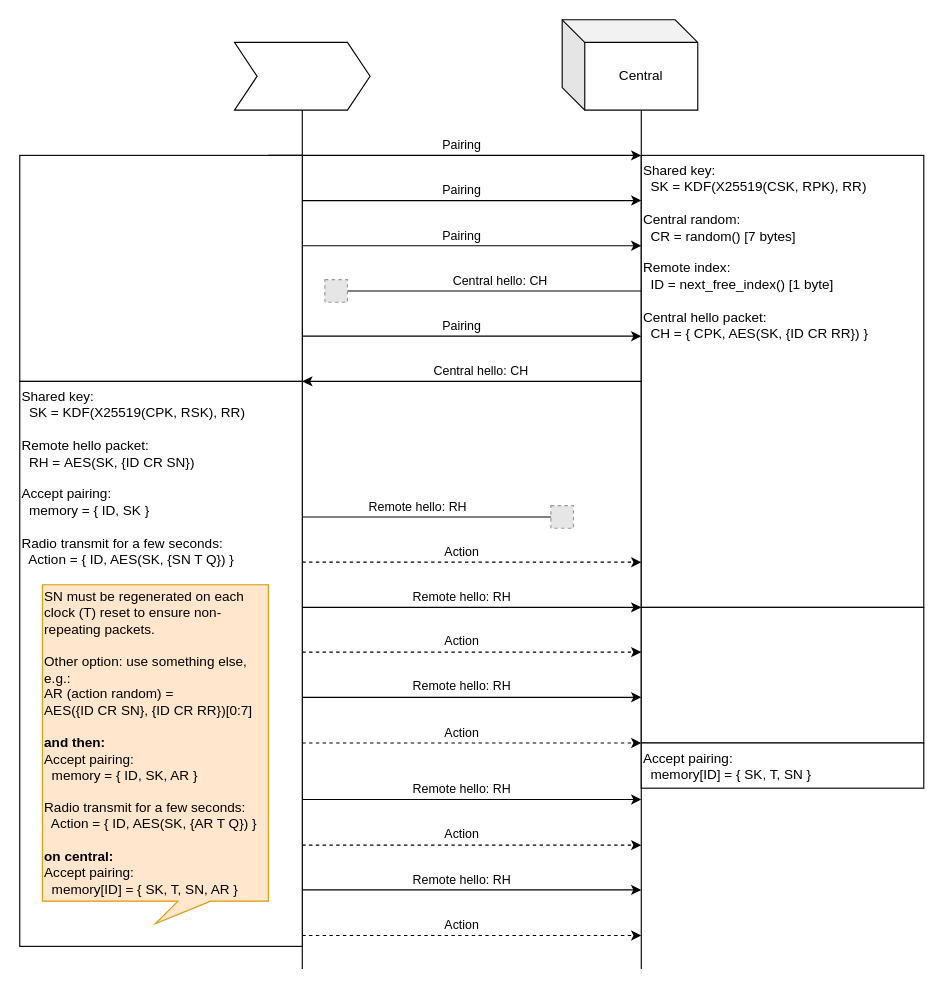
Image size: 944x990. Some labels were removed from this diagram. Grey dashed boxes stand in for pictures. The centre of each missing label's shape, as x and y in pixels:
"Remote" goes at pixel 301 75.
"Remote random: RR = random() [8 bytes] Pairing packet: PP = { RPK, RR }" goes at pixel 160 267.
"Wait for first action from ID with serial SN" goes at pixel 782 674.
